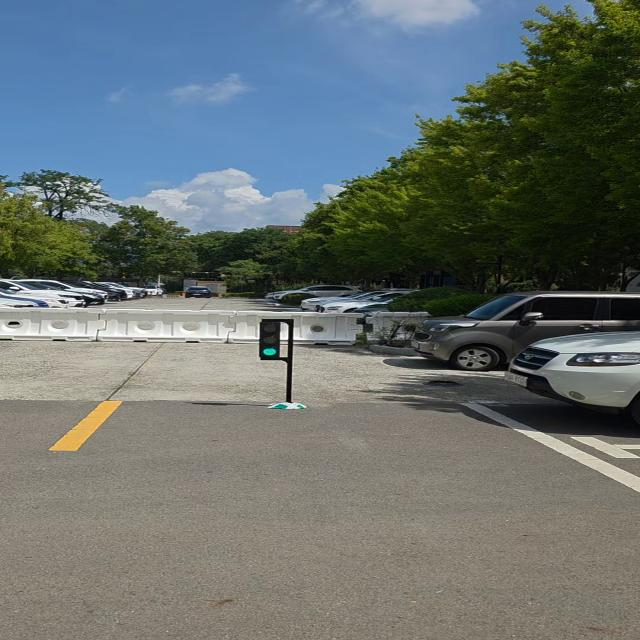green: (256, 321, 282, 362)
